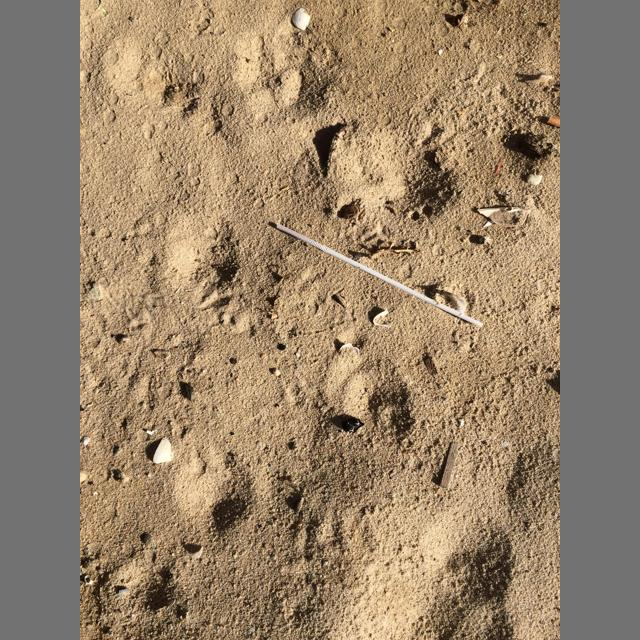litter: (276, 224, 483, 328)
